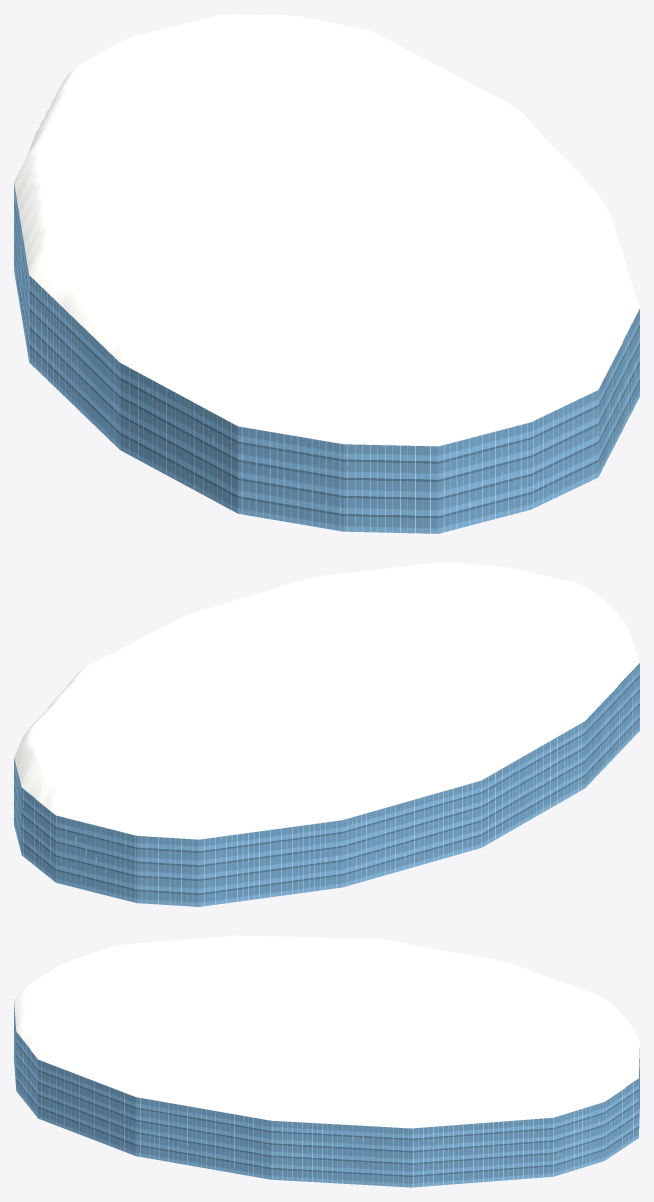
Rendered from landmark-aquatics-centre.glb.
The picture shows the model from 3 angles, top to bottom: view 1: azimuth 30°, elevation 25°; view 2: azimuth 150°, elevation 25°; view 3: azimuth 270°, elevation 25°; orthographic projection. The views are drawn at different scales.
Parts seen in each view (by area): view 1: aquatics-centre; view 2: aquatics-centre; view 3: aquatics-centre.
Part boxes in pixels (box(x1,y1,x2,y2)): aquatics-centre: box(14, 14, 639, 533); aquatics-centre: box(14, 562, 639, 906); aquatics-centre: box(14, 935, 639, 1187).
Size of the model in its own units: 124 by 36.18 by 185.
Materials: 2 (1 with a texture image).
